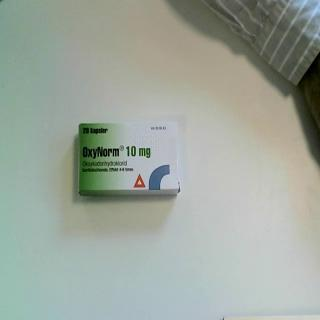oxynorm10mg: (77, 120, 182, 200)
